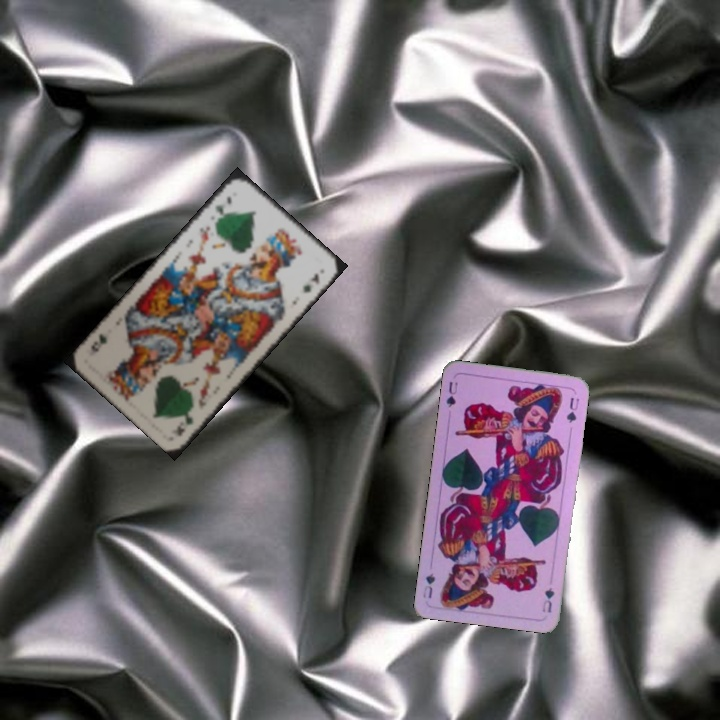GK: (169, 410, 195, 439), (211, 192, 234, 218)
GU: (538, 583, 557, 615), (442, 377, 460, 410)
